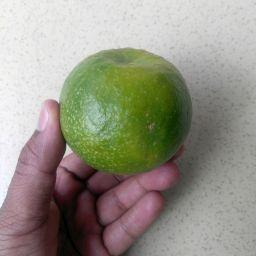Unripe: (58, 49, 192, 174)
